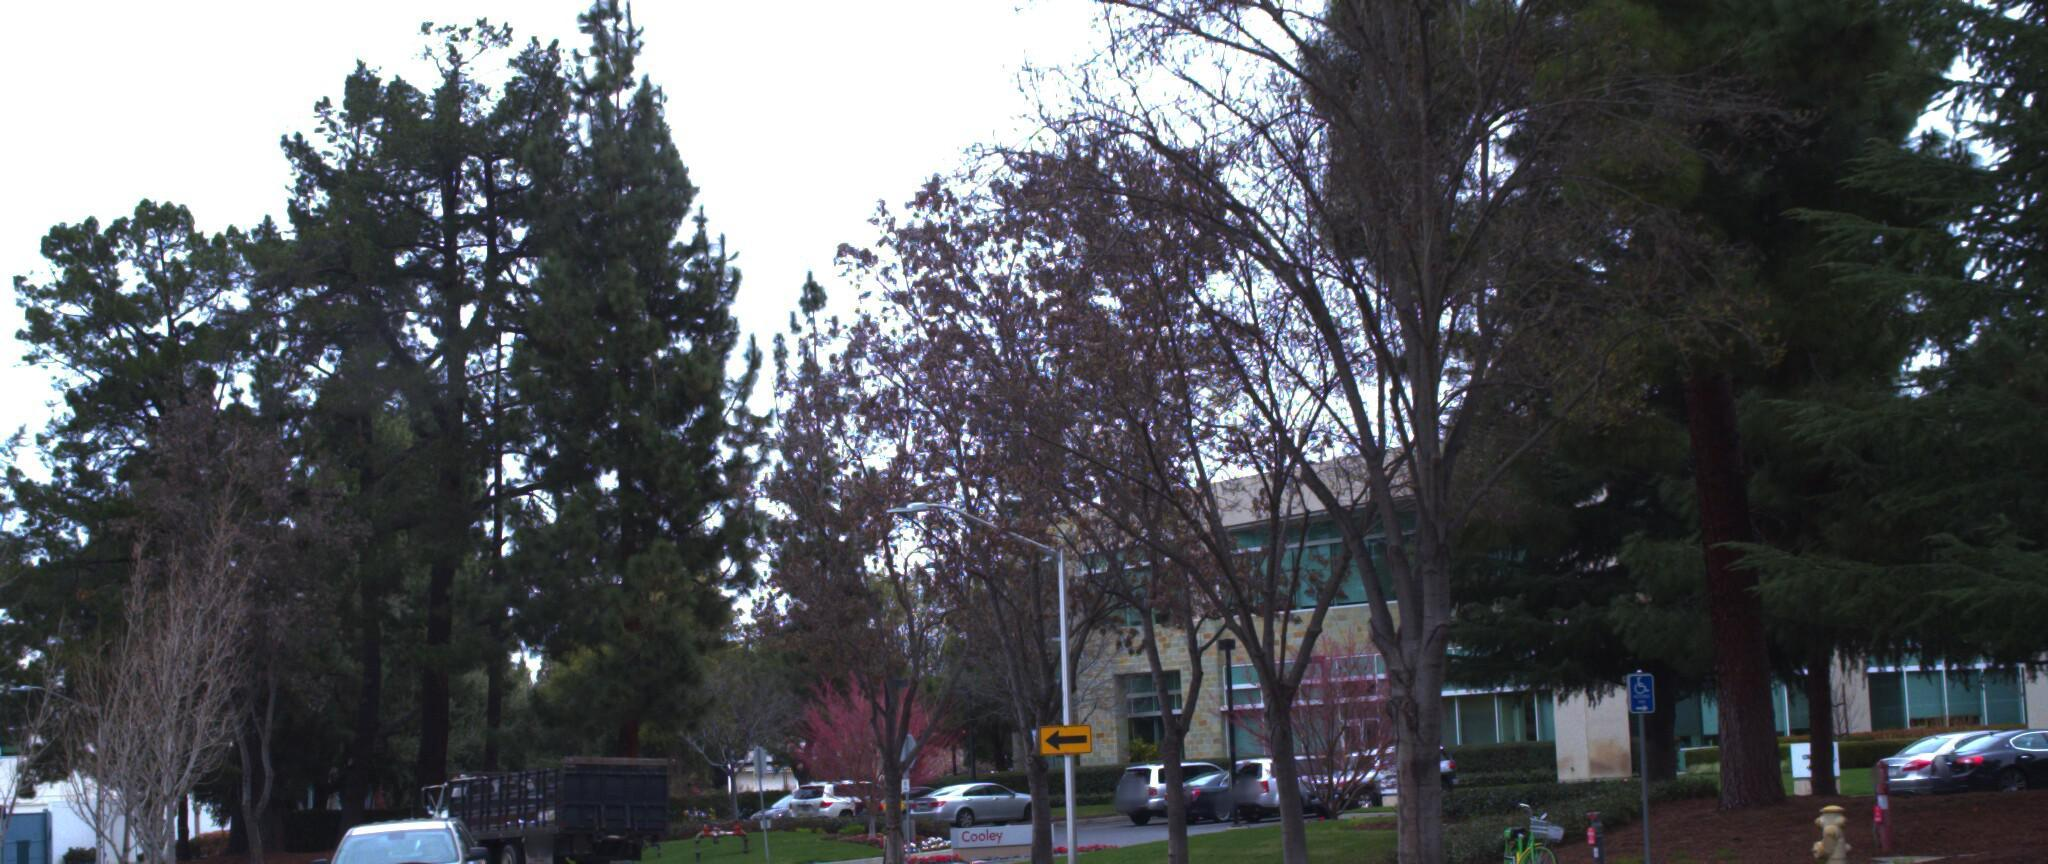bicycle: (1469, 791, 1574, 864)
car: (302, 797, 505, 864)
truck: (404, 724, 680, 864)
